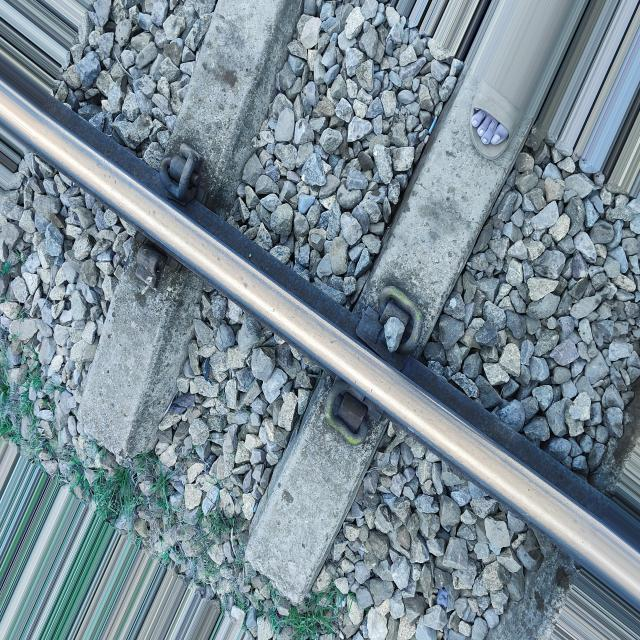Good Fasteners: (356, 286, 424, 358), (325, 378, 369, 445), (159, 145, 198, 203)
Missing Fastener: (124, 239, 168, 297)
